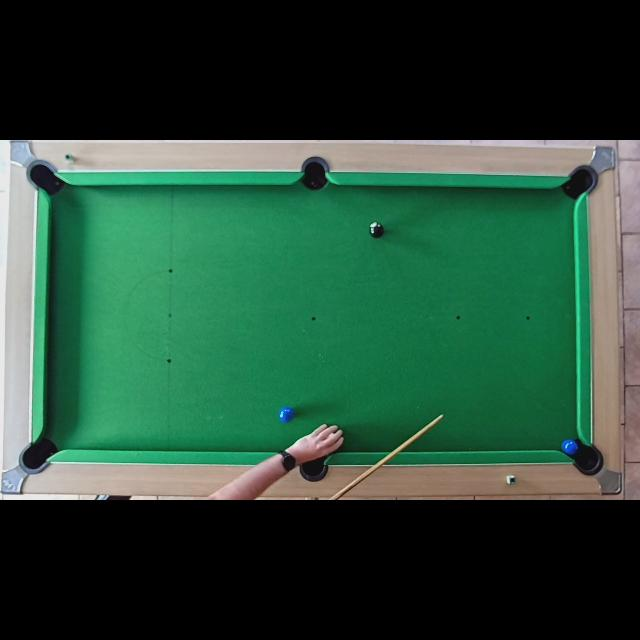Ball: (562, 439, 578, 456), (368, 222, 384, 238), (279, 407, 295, 423)
